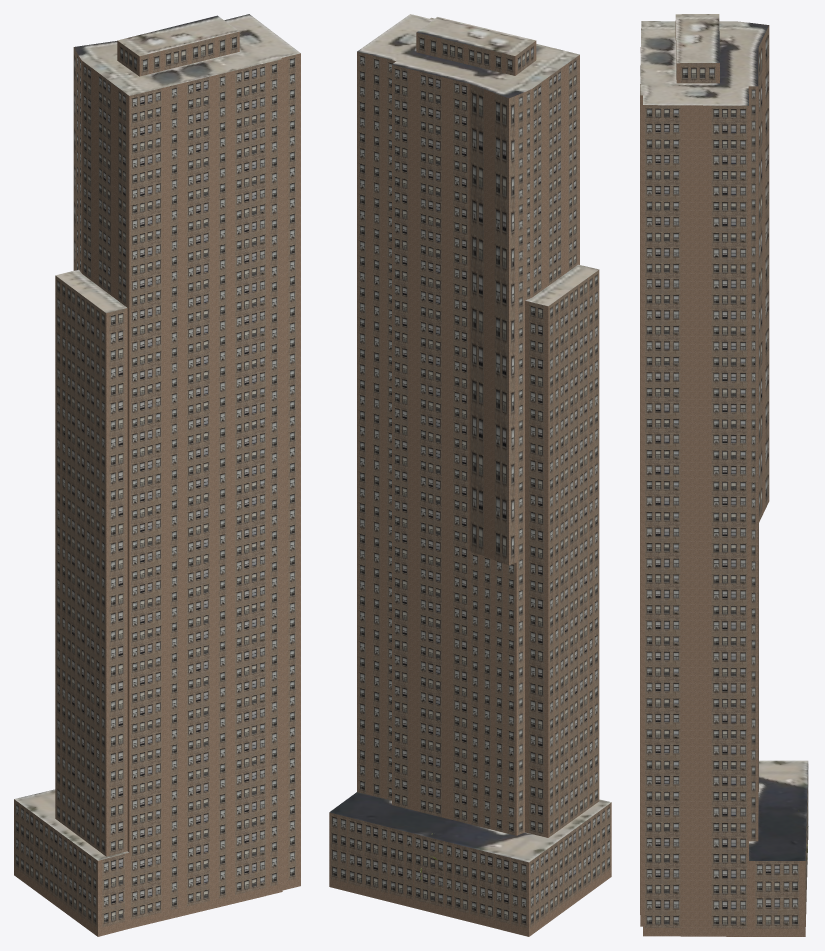
The model's file is building23.fbx.
The picture shows the model from 3 angles, left to right: view 1: azimuth 30°, elevation 25°; view 2: azimuth 150°, elevation 25°; view 3: azimuth 270°, elevation 25°; orthographic projection. The views are drawn at different scales.
Visible parts, largest first — view 1: geometryt040100010000000110110100010110100110110st65_Bi_9d1d, Object.292, geometryt040100010000000110110100010110100110110st64_Bi_6142; view 2: geometryt040100010000000110110100010110100110110st65_Bi_9d1d, Object.292, geometryt040100010000000110110100010110100110110st64_Bi_6142; view 3: geometryt040100010000000110110100010110100110110st65_Bi_9d1d, Object.292, geometryt040100010000000110110100010110100110110st64_Bi_6142.
Boxes of the visible parts, <box> form: geometryt040100010000000110110100010110100110110st65_Bi_9d1d: <box>15,32,295,927</box>; Object.292: <box>14,31,300,936</box>; geometryt040100010000000110110100010110100110110st64_Bi_6142: <box>14,14,300,860</box>; geometryt040100010000000110110100010110100110110st65_Bi_9d1d: <box>331,33,610,927</box>; Object.292: <box>329,32,611,936</box>; geometryt040100010000000110110100010110100110110st64_Bi_6142: <box>329,14,611,862</box>; geometryt040100010000000110110100010110100110110st65_Bi_9d1d: <box>640,27,808,928</box>; Object.292: <box>640,20,808,936</box>; geometryt040100010000000110110100010110100110110st64_Bi_6142: <box>640,14,808,860</box>.
Bounding box in the file's own units: 4244 × 16800 × 3055.
Materials: 4 (4 with a texture image).
